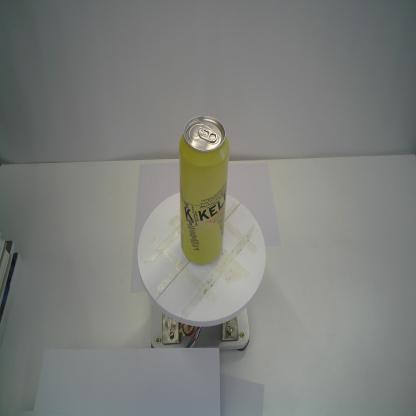Alcohol: (178, 113, 230, 269)
